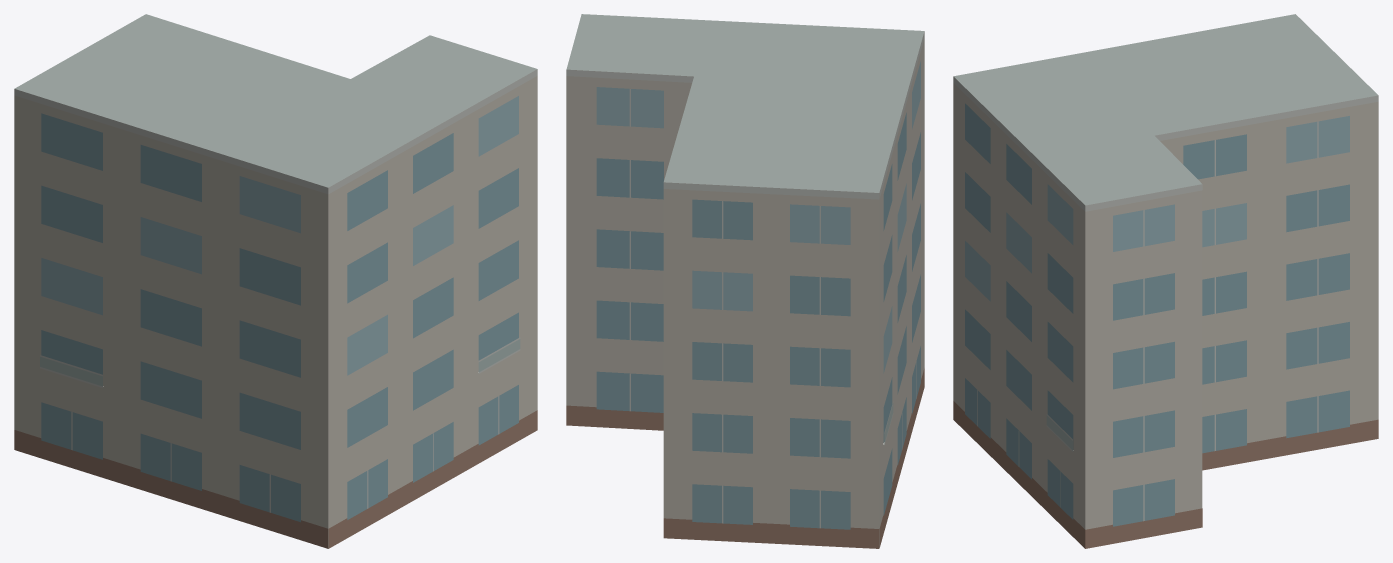
The model's file is survey-upis-32595401.glb.
3 views of the same model, side by side, from view 1: azimuth 30°, elevation 25°; view 2: azimuth 150°, elevation 25°; view 3: azimuth 270°, elevation 25° (orthographic). The views are drawn at different scales.
Visible parts, largest first — view 1: survey-upis-32595401.tmp; view 2: survey-upis-32595401.tmp; view 3: survey-upis-32595401.tmp.
Boxes of the visible parts, x1=… form: survey-upis-32595401.tmp: x1=14, y1=14, x2=537, y2=548; survey-upis-32595401.tmp: x1=566, y1=14, x2=924, y2=548; survey-upis-32595401.tmp: x1=953, y1=14, x2=1378, y2=548.
Bounding box in the file's own units: 15.92 × 13.3 × 14.94.
